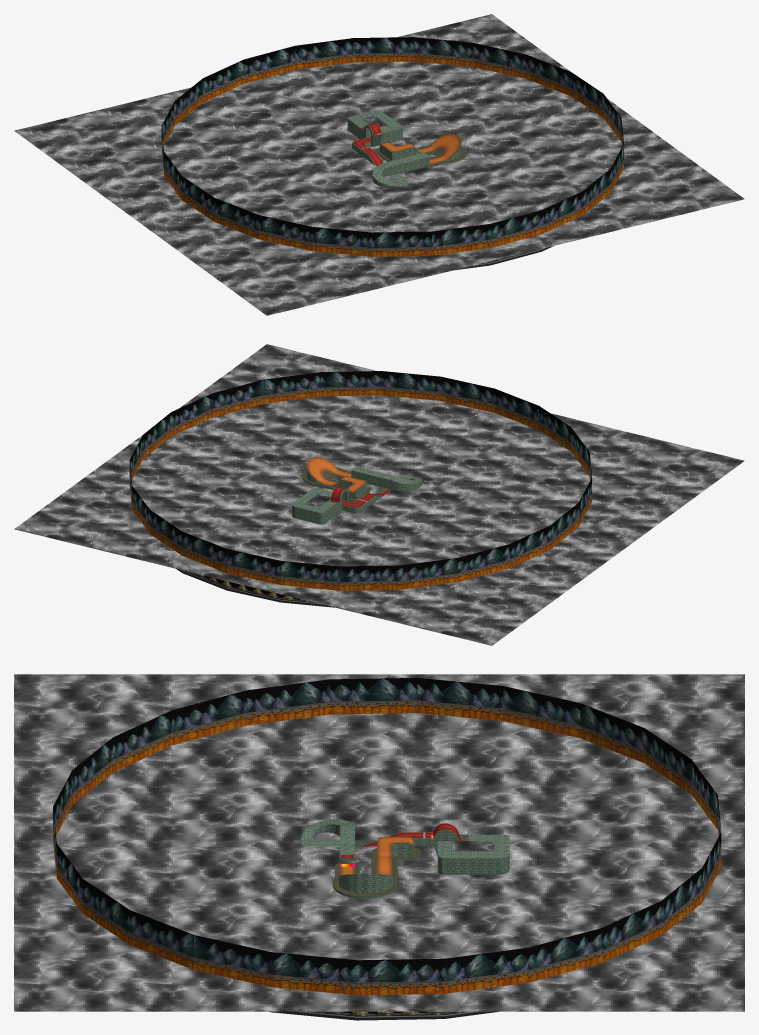
The picture shows the model from 3 angles, top to bottom: view 1: azimuth 30°, elevation 25°; view 2: azimuth 150°, elevation 25°; view 3: azimuth 270°, elevation 25°; orthographic projection. The views are drawn at different scales.
Visible parts, largest first — view 1: Resize_Main-Lava.001, Resize_Main-Sky.001, Resize_Main-Wall.001, Resize_Main-Bowser.001; view 2: Resize_Main-Lava.001, Resize_Main-Sky.001, Resize_Main-Wall.001, Resize_Main-Bowser.001; view 3: Resize_Main-Lava.001, Resize_Main-Sky.001, Resize_Main-Wall.001, Resize_Main-Dirt.001, Resize_Main-Bowser.001.
Boxes of the visible parts, x1=… form: Resize_Main-Lava.001: x1=14, y1=14, x2=744, y2=315; Resize_Main-Sky.001: x1=161, y1=37, x2=623, y2=270; Resize_Main-Wall.001: x1=347, y1=110, x2=466, y2=187; Resize_Main-Bowser.001: x1=381, y1=133, x2=461, y2=164; Resize_Main-Lava.001: x1=14, y1=344, x2=744, y2=645; Resize_Main-Sky.001: x1=129, y1=371, x2=591, y2=607; Resize_Main-Wall.001: x1=292, y1=466, x2=422, y2=524; Resize_Main-Bowser.001: x1=306, y1=456, x2=366, y2=492; Resize_Main-Lava.001: x1=14, y1=674, x2=744, y2=1011; Resize_Main-Sky.001: x1=53, y1=678, x2=721, y2=1020; Resize_Main-Wall.001: x1=301, y1=819, x2=509, y2=898; Resize_Main-Dirt.001: x1=332, y1=847, x2=420, y2=896; Resize_Main-Bowser.001: x1=340, y1=836, x2=413, y2=875.
Size of the model in its own units: 212433 by 17712 by 194695.
10 materials, 10 textured.
